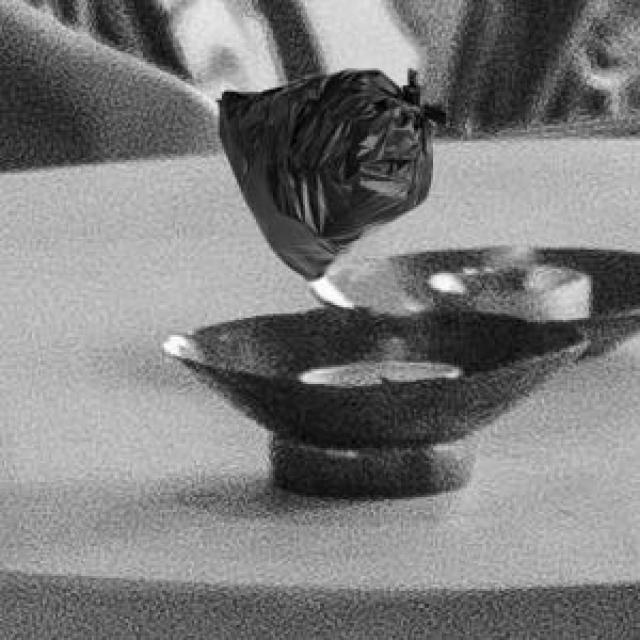miscellaneous trash: (213, 66, 446, 277)
